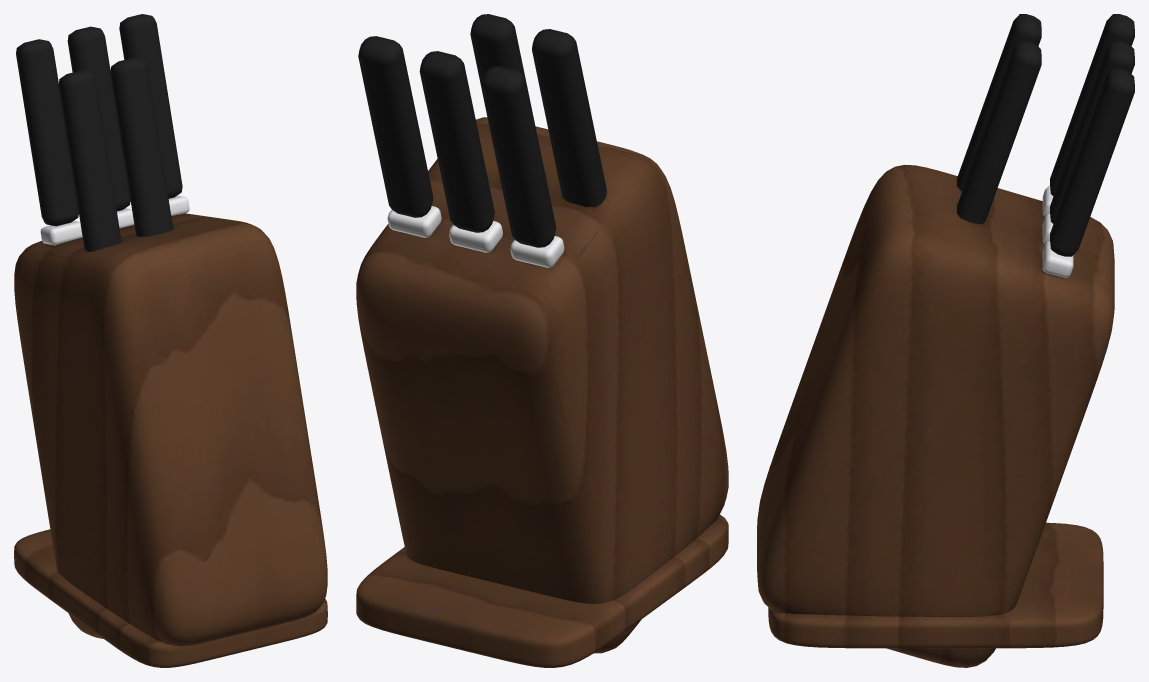
File: walnut-black.glb
3 views of the same model, side by side, from view 1: azimuth 30°, elevation 25°; view 2: azimuth 150°, elevation 25°; view 3: azimuth 270°, elevation 25° (orthographic). The views are drawn at different scales.
Visible parts, largest first — view 1: wood_z, knife_handle, chrome; view 2: wood_z, knife_handle, chrome; view 3: wood_z, knife_handle, chrome.
Boxes of the visible parts, <box> form: wood_z: <box>14,213,327,667</box>; knife_handle: <box>16,14,182,251</box>; chrome: <box>40,195,189,245</box>; wood_z: <box>356,117,728,667</box>; knife_handle: <box>358,14,606,247</box>; chrome: <box>387,206,564,267</box>; wood_z: <box>757,165,1114,667</box>; knife_handle: <box>957,14,1134,256</box>; chrome: <box>1042,186,1073,277</box>.
Bounding box in the file's own units: 0.13 × 0.3485 × 0.2028.
3 materials, 1 textured.
